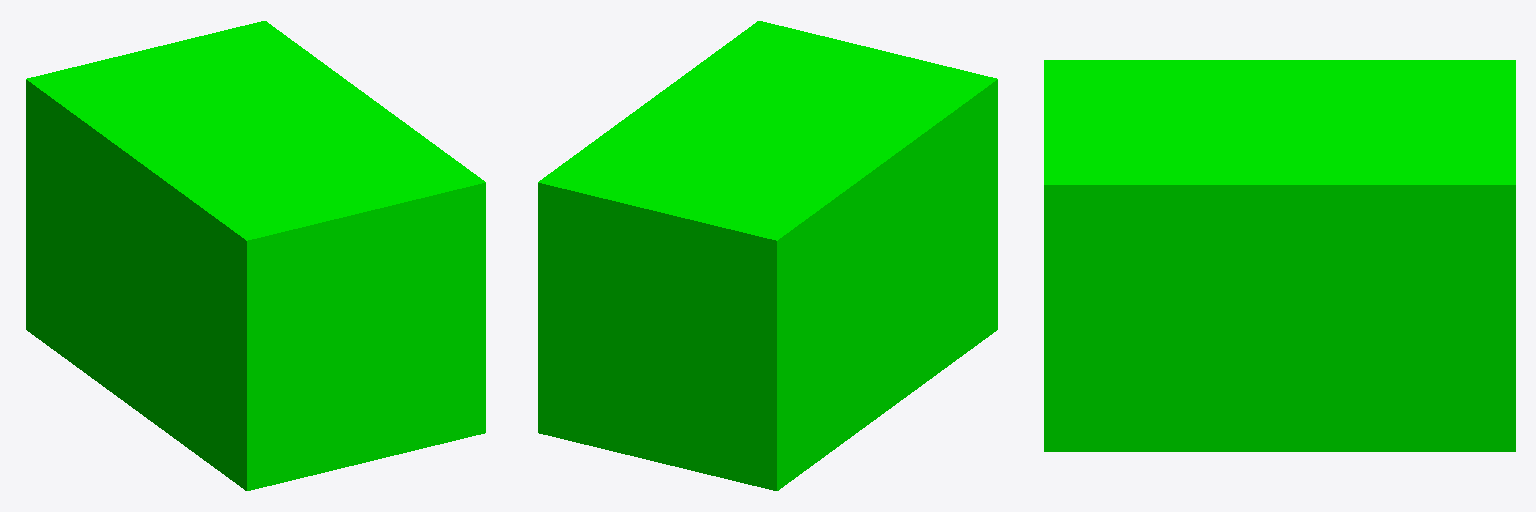
URDF robot description (medium_box):
<?xml version="1.0" ?>
<robot name="medium_box">
  <link name="base">
    <inertial>
      <mass value="0.1"/>
      <inertia ixx="0.00002" iyy="0.00002" izz="0.00002"/>
    </inertial>

    <visual>
      <geometry>
        <box size="0.05 0.08 0.05"/>
      </geometry>
      <material name="green">
        <color rgba="0 1 0 1"/>
      </material>
    </visual>

    <collision>
      <geometry>
        <box size="0.05 0.08 0.05"/>
      </geometry>
    </collision>

    <dynamics lateral_friction="0.8" restitution="0.1" />

  </link>
</robot>

--- What the picture shows (computed from the rendered views, not written in the file) ---
Views: 3 orthographic renders of the robot side by side, from view 1: azimuth 30°, elevation 25°; view 2: azimuth 150°, elevation 25°; view 3: azimuth 270°, elevation 25°.
Model medium_box with 1 links and 0 joints (none), rooted at base, posed all joints at 0.
Links seen in each view (by area): view 1: base; view 2: base; view 3: base.
Link boxes in pixels (left/top/right/bottom): base: left=26, top=21, right=485, bottom=490; base: left=538, top=21, right=997, bottom=490; base: left=1044, top=60, right=1515, bottom=451.
Size in the robot's own frame: 0.05 by 0.08 by 0.05 metres.
Geometry: primitives only (box / cylinder / sphere), no mesh files.